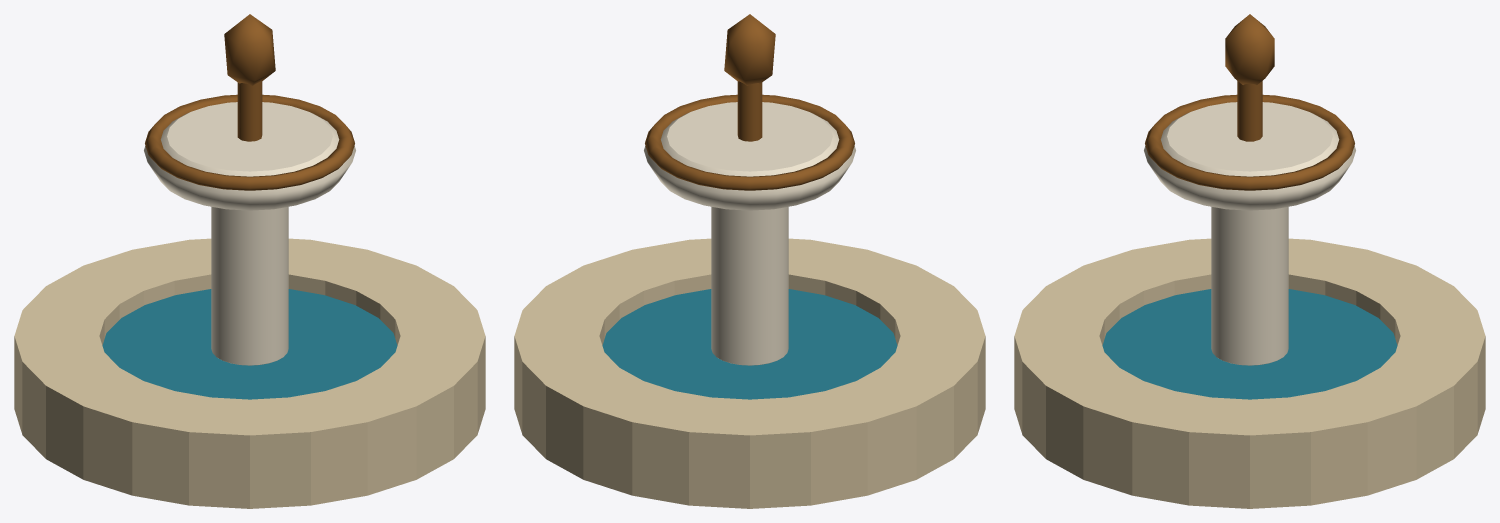
Rendered from decor_courtyard_fountain_LOD0.glb.
3 views of the same model, side by side, from view 1: azimuth 30°, elevation 25°; view 2: azimuth 150°, elevation 25°; view 3: azimuth 270°, elevation 25° (orthographic).
Visible parts, largest first — view 1: decor_courtyard_fountain_LOD0; view 2: decor_courtyard_fountain_LOD0; view 3: decor_courtyard_fountain_LOD0.
Part boxes in pixels (x1,y1,x2,y2): decor_courtyard_fountain_LOD0: (14, 14, 485, 508); decor_courtyard_fountain_LOD0: (514, 14, 985, 508); decor_courtyard_fountain_LOD0: (1014, 14, 1485, 508).
Bounding box in the file's own units: 2.44 × 2.26 × 2.44.
